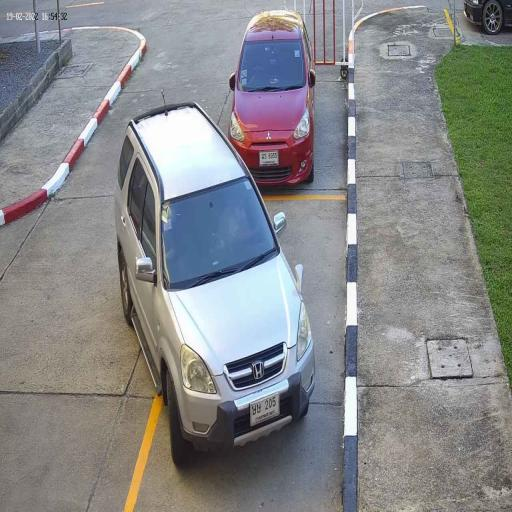car: (114, 100, 318, 472), (228, 12, 317, 184)
